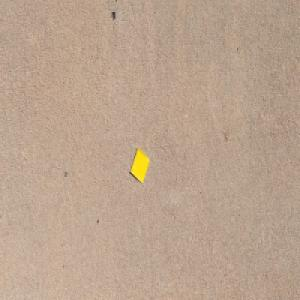PlasticPart: (129, 146, 149, 184)
